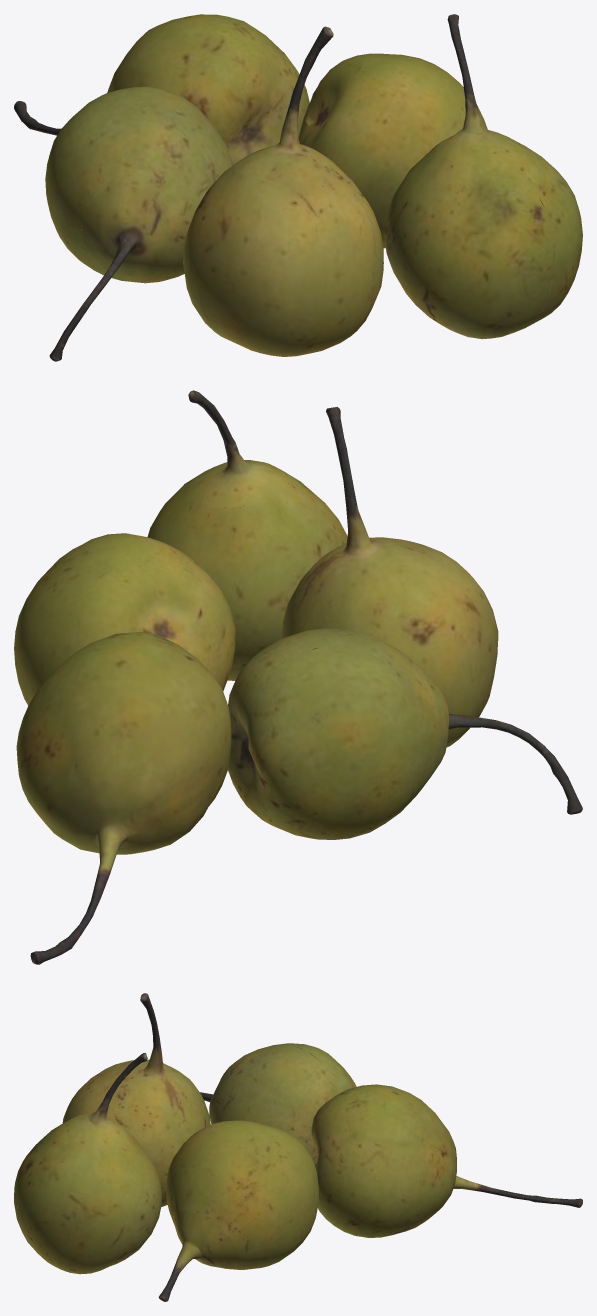
Rendered from food_pears_asian_01.gltf.
3 renders of one model, top to bottom at view 1: azimuth 30°, elevation 25°; view 2: azimuth 150°, elevation 25°; view 3: azimuth 270°, elevation 25°, orthographic. The views are drawn at different scales.
Visible parts, largest first — view 1: food_pears_asian_01_c, food_pears_asian_01_e, food_pears_asian_01_a, food_pears_asian_01_d, food_pears_asian_01_b; view 2: food_pears_asian_01_b, food_pears_asian_01_a, food_pears_asian_01_c, food_pears_asian_01_e, food_pears_asian_01_d; view 3: food_pears_asian_01_d, food_pears_asian_01_b, food_pears_asian_01_e, food_pears_asian_01_a, food_pears_asian_01_c.
Part boxes in pixels (x1=…): food_pears_asian_01_c: x1=183, y1=26, x2=383, y2=356; food_pears_asian_01_e: x1=384, y1=14, x2=582, y2=339; food_pears_asian_01_a: x1=45, y1=86, x2=233, y2=361; food_pears_asian_01_d: x1=298, y1=53, x2=487, y2=248; food_pears_asian_01_b: x1=14, y1=14, x2=309, y2=164; food_pears_asian_01_b: x1=16, y1=632, x2=231, y2=964; food_pears_asian_01_a: x1=228, y1=628, x2=582, y2=839; food_pears_asian_01_c: x1=281, y1=407, x2=498, y2=747; food_pears_asian_01_e: x1=147, y1=390, x2=347, y2=680; food_pears_asian_01_d: x1=14, y1=533, x2=235, y2=705; food_pears_asian_01_d: x1=158, y1=1120, x2=318, y2=1301; food_pears_asian_01_b: x1=311, y1=1084, x2=582, y2=1237; food_pears_asian_01_e: x1=14, y1=1053, x2=161, y2=1274; food_pears_asian_01_a: x1=200, y1=1043, x2=356, y2=1167; food_pears_asian_01_c: x1=62, y1=993, x2=210, y2=1206.
Bounding box in the file's own units: 0.1261 × 0.0713 × 0.1669.
Materials: 1 (1 with a texture image).
